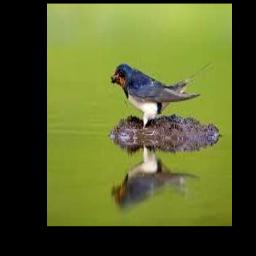Swallow: (111, 63, 213, 129)
